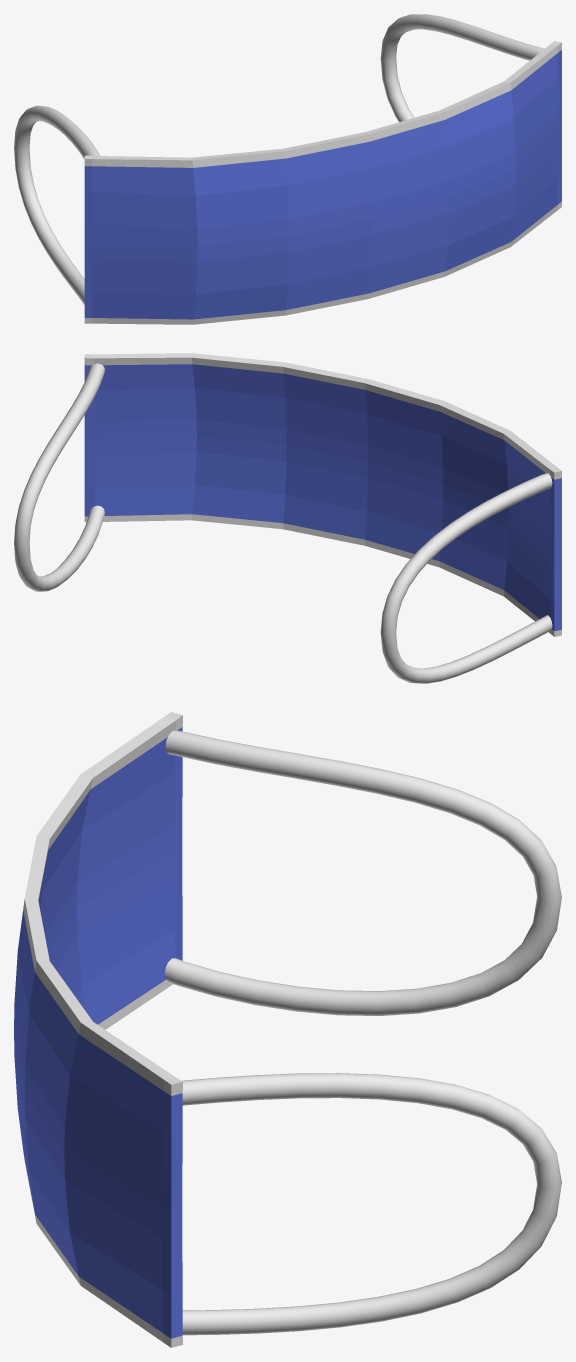
Rendered from Kemama.fbx.
3 renders of one model, top to bottom at view 1: azimuth 30°, elevation 25°; view 2: azimuth 150°, elevation 25°; view 3: azimuth 270°, elevation 25°, orthographic. The views are drawn at different scales.
Parts seen in each view (by area): view 1: Plane, BezierCircle; view 2: Plane, BezierCircle; view 3: Plane, BezierCircle.
Boxes of the visible parts, x1,y1,x2,y2 form: Plane: (84, 41, 561, 324); BezierCircle: (14, 14, 544, 304); Plane: (84, 353, 561, 636); BezierCircle: (14, 363, 552, 683); Plane: (14, 712, 182, 1347); BezierCircle: (165, 730, 561, 1335).
Size of the model in its own units: 200 by 68.04 by 124.
